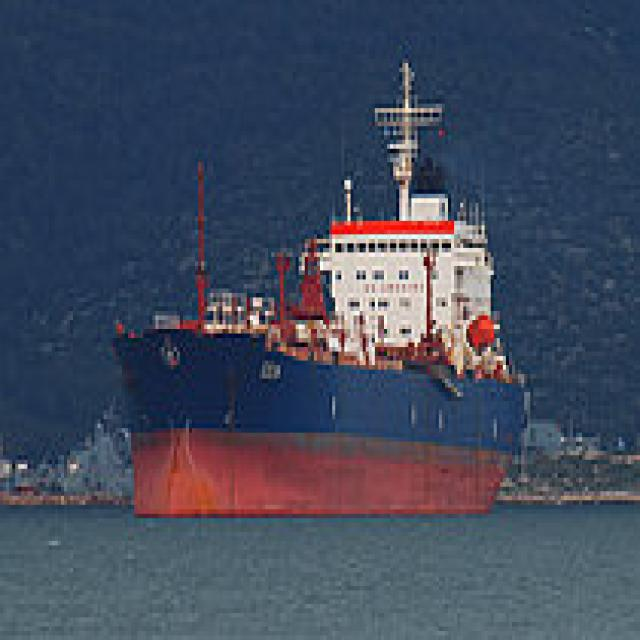Tanker: (110, 54, 524, 518)
